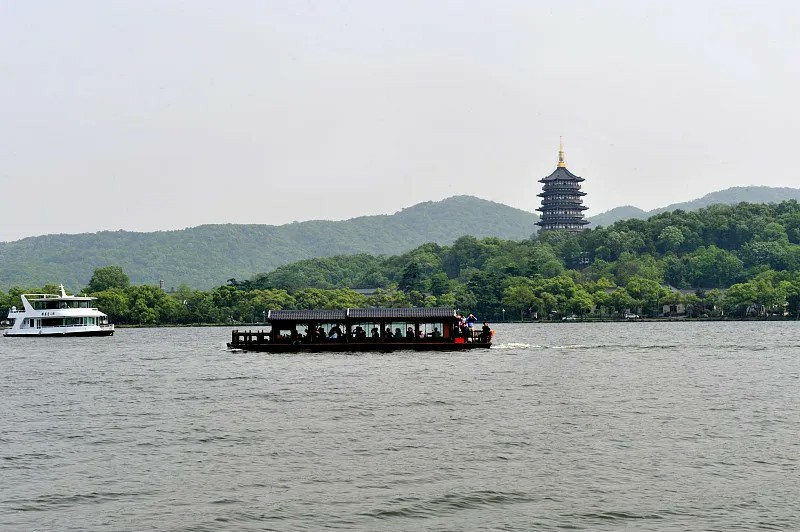Leifeng: (535, 134, 589, 237)
